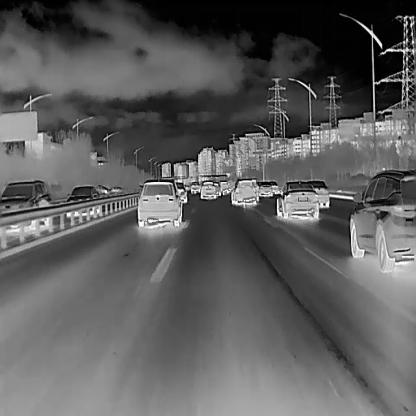car: (348, 168, 415, 274), (0, 177, 52, 237), (136, 175, 182, 226), (274, 178, 318, 219), (65, 183, 101, 218), (229, 176, 257, 205), (306, 179, 330, 206), (172, 180, 187, 204), (200, 180, 216, 199), (256, 180, 272, 196), (218, 180, 230, 195), (189, 180, 201, 192), (268, 179, 278, 193), (95, 184, 108, 194), (108, 186, 122, 194)
